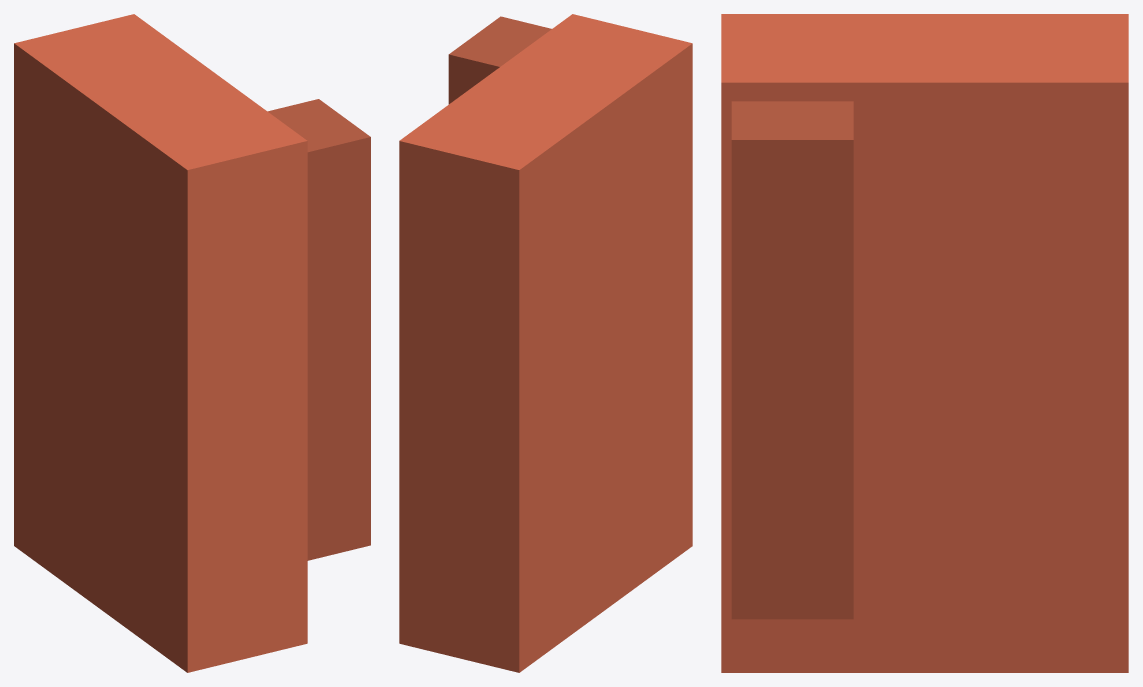
Rendered from phone.glb.
3 renders of one model, left to right at view 1: azimuth 30°, elevation 25°; view 2: azimuth 150°, elevation 25°; view 3: azimuth 270°, elevation 25°, orthographic. The views are drawn at different scales.
Parts seen in each view (by area): view 1: Box1, Box2; view 2: Box1, Box2; view 3: Box1, Box2.
Boxes of the visible parts, <box> form: Box1: <box>14,14,307,672</box>; Box2: <box>267,99,370,560</box>; Box1: <box>399,14,692,672</box>; Box2: <box>448,16,551,104</box>; Box1: <box>721,14,1128,672</box>; Box2: <box>731,101,853,619</box>.
Size of the model in its own units: 0.125 by 0.32 by 0.2.
